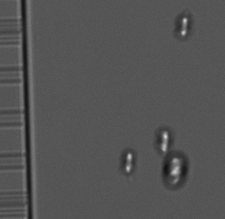Living Cell: (163, 153, 187, 188), (157, 128, 172, 155), (121, 150, 137, 175), (176, 13, 192, 38)
